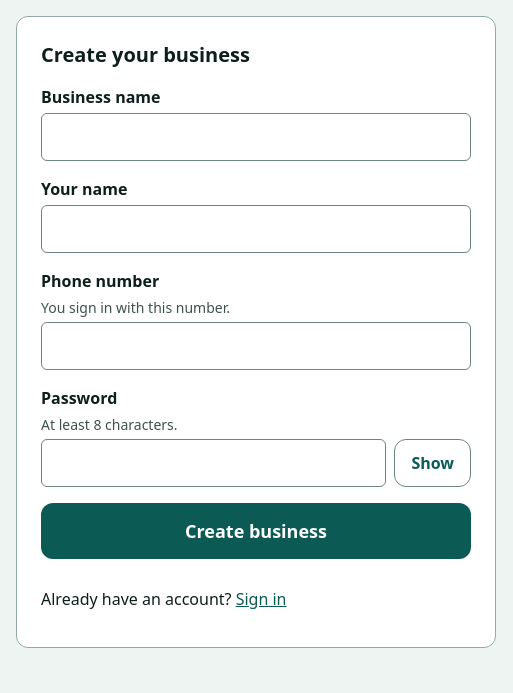
Test case: SignUpPage (M1, US1.1) › shows a server field error under the field and keeps every typed value
Check: the heading "Create your business" is shown, box [41,41,250,68]
In the field labelled "Business name": (256, 137) [41,113,471,161], type "Haque Traders"
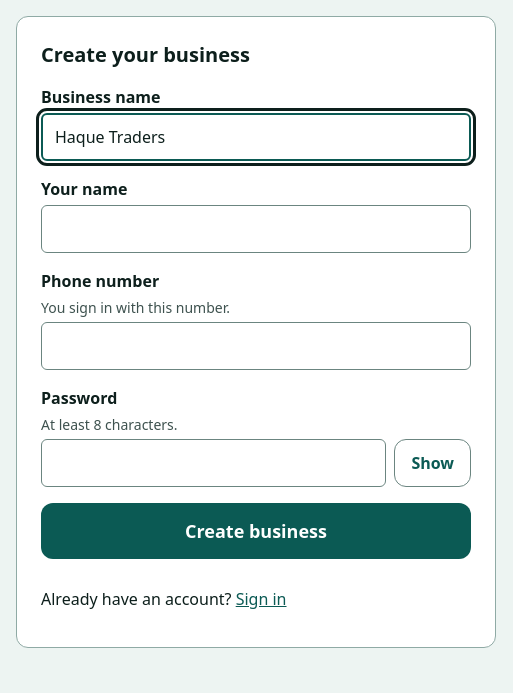
In the field labelled "Your name": (256, 229) [41,205,471,253], type "Abdul Haque"
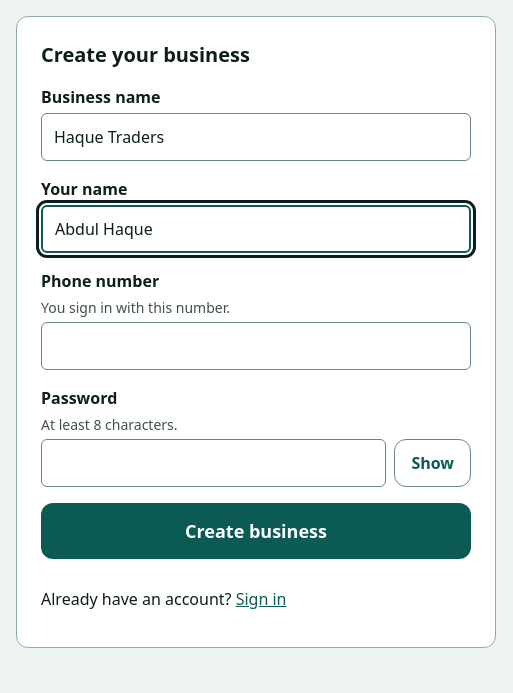
In the field labelled "Phone number": (256, 346) [41,322,471,370], type "01711 000-001"
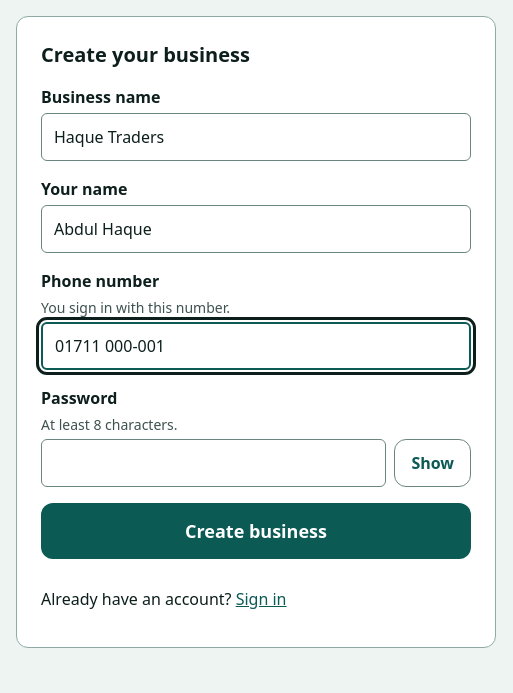
In the password field with test id "signup-password-input": (214, 463) [41,439,386,487], type "correct horse"
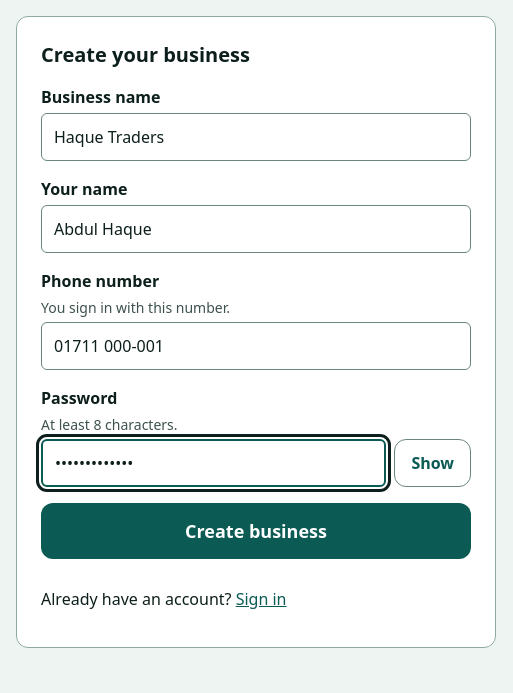
Click the button with test id "signup-submit-button": click(256, 531) [41,503,471,559]
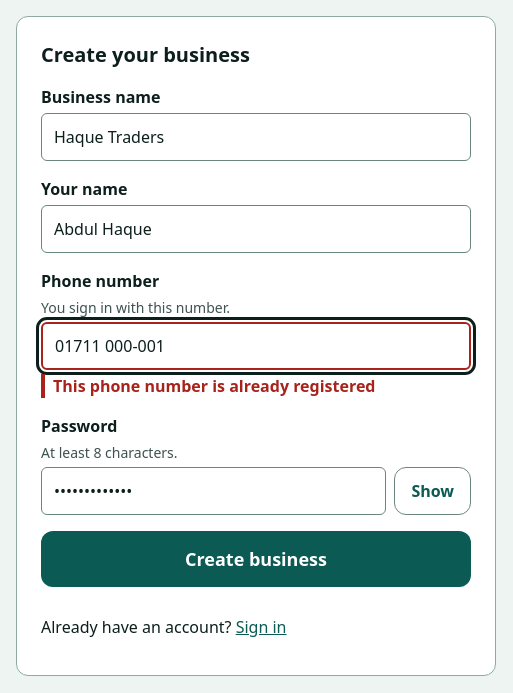
Check: the text "This phone number is already registered" is shown, box [41,374,471,398]
